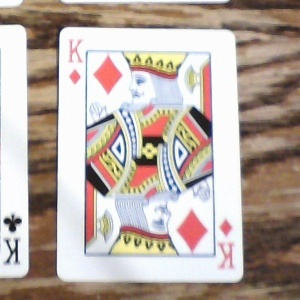card: (55, 27, 244, 283)
